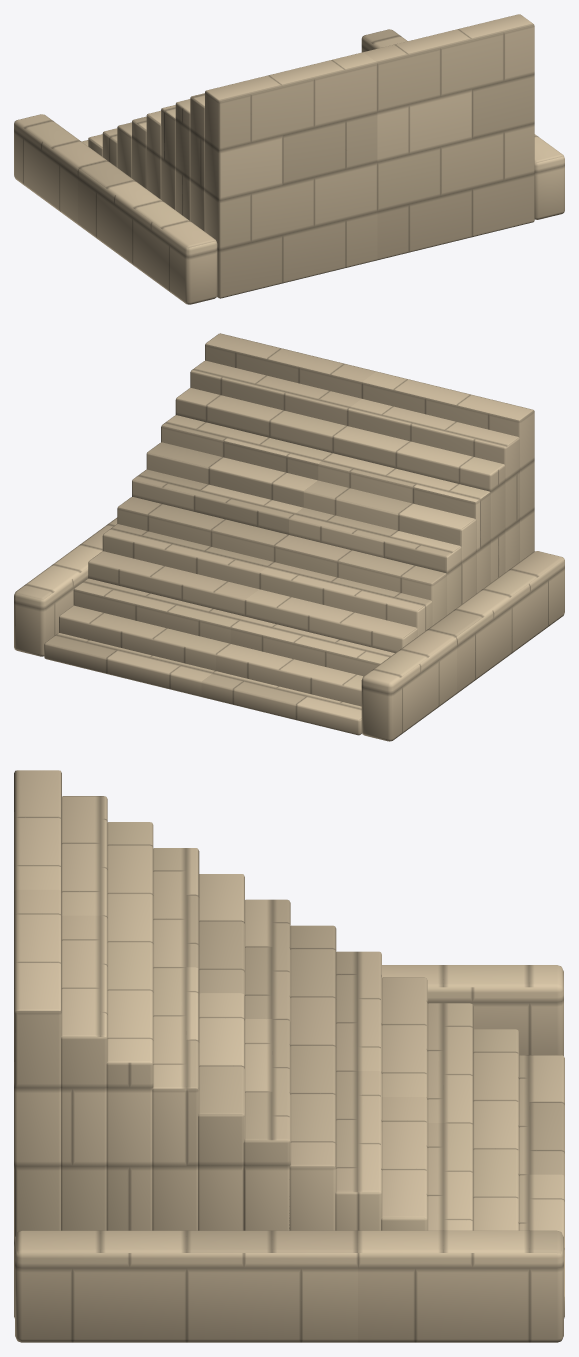
The model's file is stairs_wide.gltf.
3 views of the same model, one above another, from view 1: azimuth 30°, elevation 25°; view 2: azimuth 150°, elevation 25°; view 3: azimuth 270°, elevation 25° (orthographic). The views are drawn at different scales.
Parts seen in each view (by area): view 1: stairs_wide_mesh; view 2: stairs_wide_mesh; view 3: stairs_wide_mesh.
Boxes of the visible parts, x1,y1,x2,y2 form: stairs_wide_mesh: (14, 14, 564, 304); stairs_wide_mesh: (14, 333, 564, 741); stairs_wide_mesh: (14, 770, 564, 1342).
Size of what is drawn, in the model's own units: 6 by 3 by 4.82.
1 material, 1 textured.
